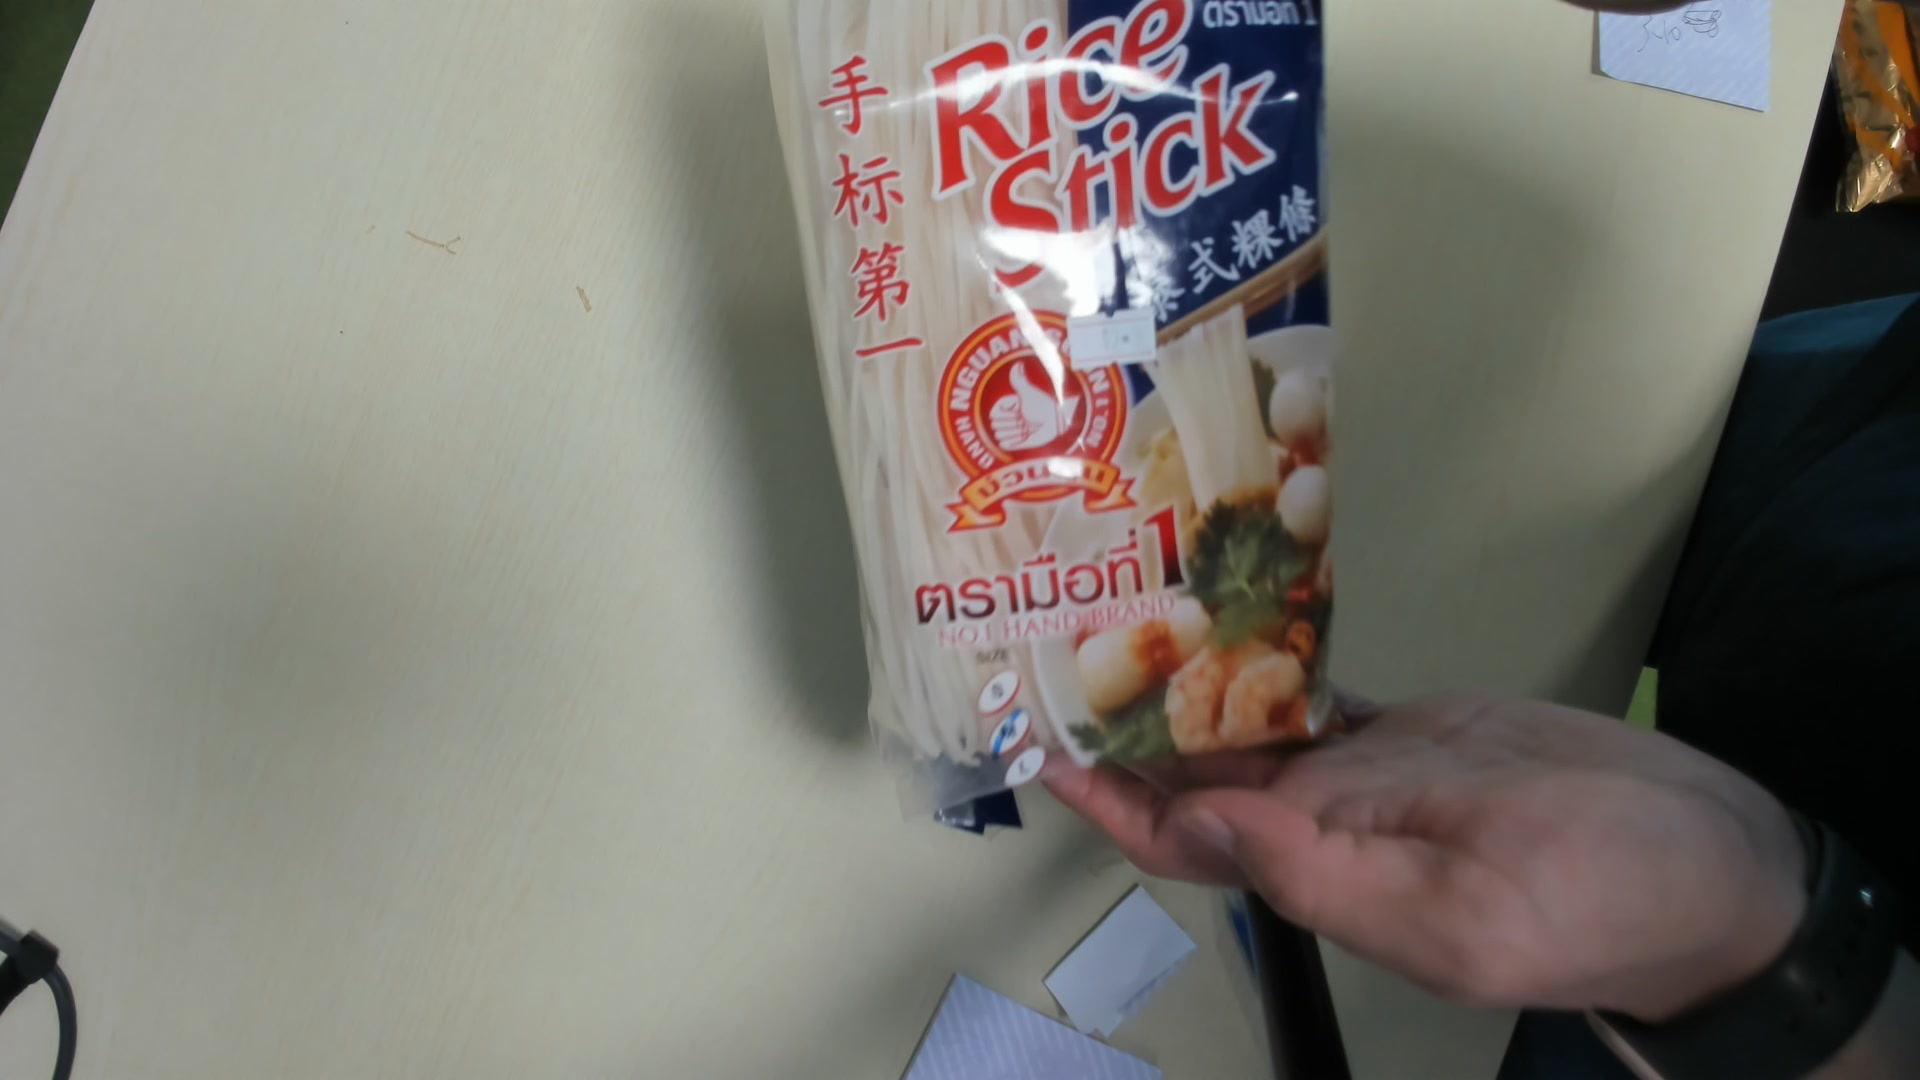OtherNoodles_400-499g_Halal_NonHealthy: (775, 3, 1353, 814)
